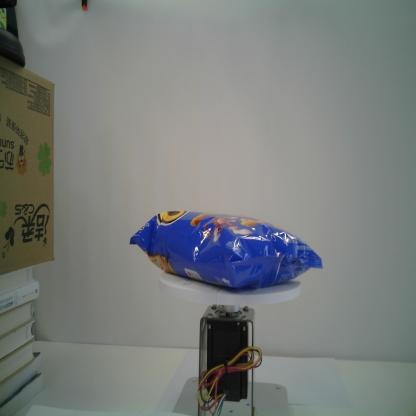Puffed Food: (129, 209, 323, 289)
